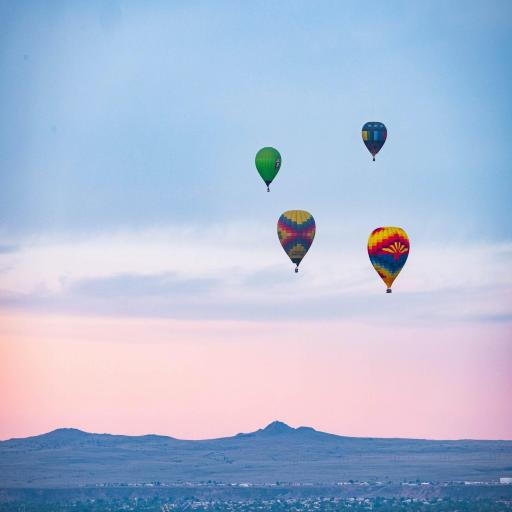hot air ballon: (367, 225, 411, 295), (277, 208, 315, 276), (256, 146, 281, 194), (362, 118, 386, 161)
